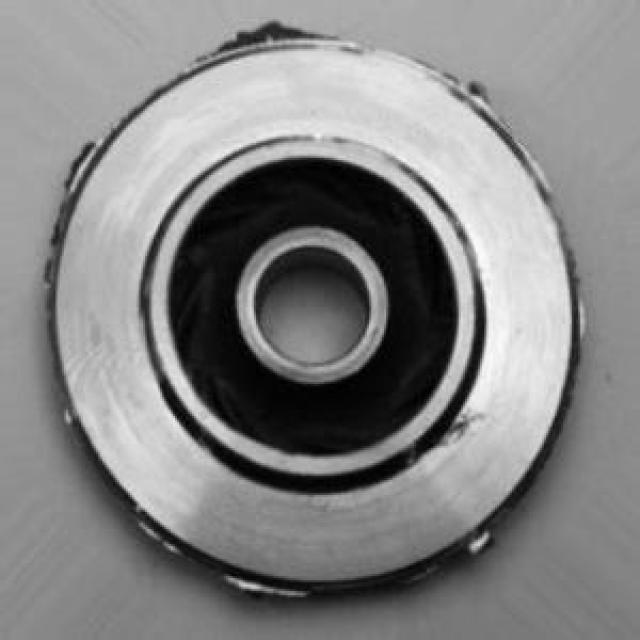Defect: (218, 16, 326, 52)
